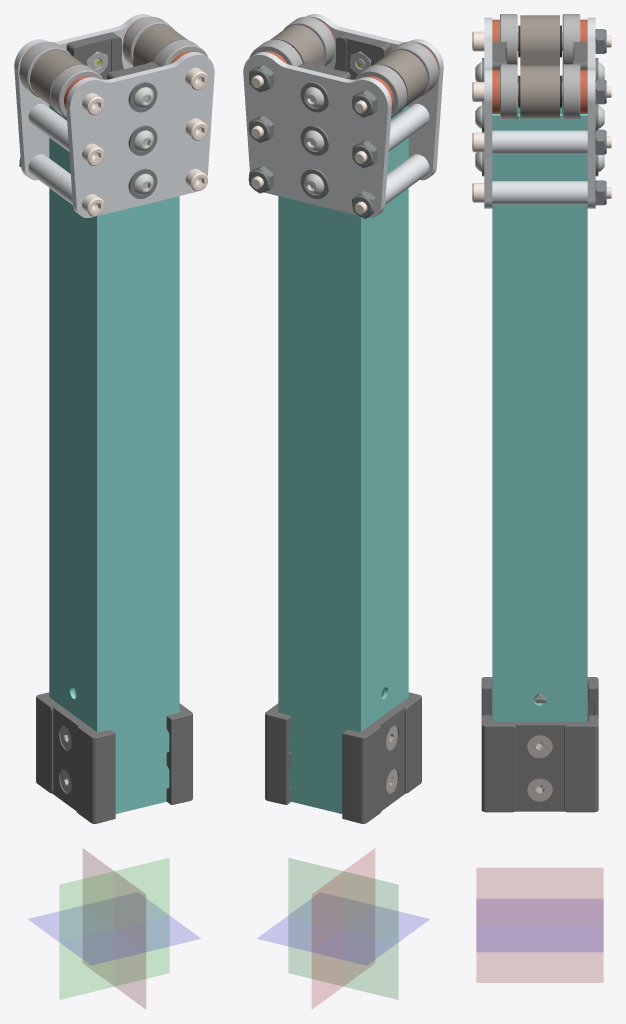
3 renders of one model, left to right at view 1: azimuth 30°, elevation 25°; view 2: azimuth 150°, elevation 25°; view 3: azimuth 270°, elevation 25°, orthographic.
Visible parts, largest first — view 1: CL-R-02, am-4644 Climber In A Box 1.5IN Bearing Plate (×2), XZ Plane, am-4631 1.5x1.5 Clamp Slider Block (×2), YZ Plane, XY Plane, am-4456 8 mm ID 22 mm OD Shielded Bearing 608ZZ_57155K629 (×4), SH8J30 Spring (×2), 92510A651_ALUM UNTHRD SPACER_92510A651 (×2), am-4629 Inside Slider Block; view 2: CL-R-02, am-4644 Climber In A Box 1.5IN Bearing Plate (×2), XZ Plane, am-4631 1.5x1.5 Clamp Slider Block (×2), YZ Plane, XY Plane, am-4456 8 mm ID 22 mm OD Shielded Bearing 608ZZ_57155K629 (×4), SH8J30 Spring (×2), 92510A651_ALUM UNTHRD SPACER_92510A651 (×2), am-4629 Inside Slider Block; view 3: CL-R-02, YZ Plane, am-4631 1.5x1.5 Clamp Slider Block (×2), XY Plane, 92510A651_ALUM UNTHRD SPACER_92510A651 (×2), SH8J30 Spring (×2), am-4456 8 mm ID 22 mm OD Shielded Bearing 608ZZ_57155K629 (×4), am-4644 Climber In A Box 1.5IN Bearing Plate (×2), FHCS 10-32x0.50_SCHCSCREW 0.19-32x0.75x0.75-HX-C (×2), am-4629 Inside Slider Block (×2).
Boxes of the visible parts, left/top/right/bottom form: CL-R-02: left=49, top=105, right=179, bottom=813; am-4644 Climber In A Box 1.5IN Bearing Plate (×2): left=14, top=14, right=214, bottom=217; XZ Plane: left=59, top=858, right=169, bottom=999; am-4631 1.5x1.5 Clamp Slider Block (×2): left=36, top=692, right=192, bottom=823; YZ Plane: left=83, top=849, right=145, bottom=1008; XY Plane: left=28, top=899, right=200, bottom=965; am-4456 8 mm ID 22 mm OD Shielded Bearing 608ZZ_57155K629 (×4): left=19, top=16, right=208, bottom=118; SH8J30 Spring (×2): left=30, top=24, right=187, bottom=107; 92510A651_ALUM UNTHRD SPACER_92510A651 (×2): left=28, top=103, right=72, bottom=204; am-4629 Inside Slider Block: left=66, top=32, right=123, bottom=79; CL-R-02: left=278, top=105, right=408, bottom=813; am-4644 Climber In A Box 1.5IN Bearing Plate (×2): left=243, top=14, right=443, bottom=217; XZ Plane: left=288, top=858, right=398, bottom=999; am-4631 1.5x1.5 Clamp Slider Block (×2): left=265, top=692, right=421, bottom=823; YZ Plane: left=312, top=849, right=374, bottom=1008; XY Plane: left=257, top=899, right=429, bottom=965; am-4456 8 mm ID 22 mm OD Shielded Bearing 608ZZ_57155K629 (×4): left=249, top=16, right=438, bottom=118; SH8J30 Spring (×2): left=270, top=24, right=427, bottom=107; 92510A651_ALUM UNTHRD SPACER_92510A651 (×2): left=385, top=103, right=429, bottom=204; am-4629 Inside Slider Block: left=334, top=32, right=391, bottom=79; CL-R-02: left=492, top=75, right=587, bottom=721; YZ Plane: left=476, top=868, right=603, bottom=982; am-4631 1.5x1.5 Clamp Slider Block (×2): left=481, top=677, right=598, bottom=812; XY Plane: left=476, top=899, right=603, bottom=951; 92510A651_ALUM UNTHRD SPACER_92510A651 (×2): left=492, top=130, right=587, bottom=204; SH8J30 Spring (×2): left=520, top=15, right=559, bottom=118; am-4456 8 mm ID 22 mm OD Shielded Bearing 608ZZ_57155K629 (×4): left=500, top=14, right=580, bottom=119; am-4644 Climber In A Box 1.5IN Bearing Plate (×2): left=484, top=17, right=595, bottom=208; FHCS 10-32x0.50_SCHCSCREW 0.19-32x0.75x0.75-HX-C (×2): left=527, top=735, right=552, bottom=800; am-4629 Inside Slider Block (×2): left=492, top=42, right=587, bottom=69.
Bounding box in the file's own units: 0.0695 × 0.4145 × 0.0556.
